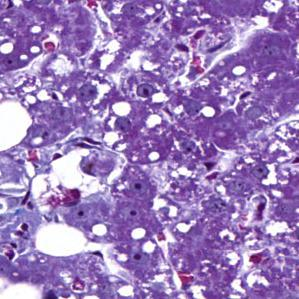ballooning: (29, 144, 130, 217)
